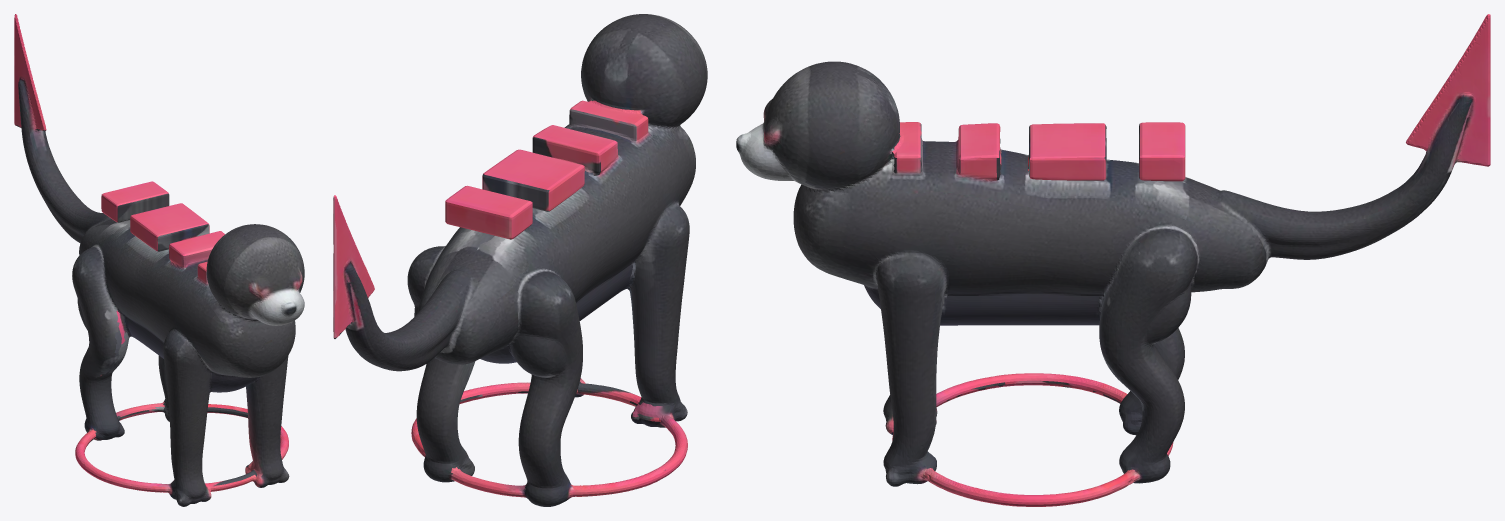
File: creature-036.glb
The picture shows the model from 3 angles, left to right: view 1: azimuth 30°, elevation 25°; view 2: azimuth 150°, elevation 25°; view 3: azimuth 270°, elevation 25°; orthographic projection. The views are drawn at different scales.
Visible parts, largest first — view 1: tmp1okjggi9.ply; view 2: tmp1okjggi9.ply; view 3: tmp1okjggi9.ply.
Part boxes in pixels (x1=…): tmp1okjggi9.ply: x1=14, y1=14, x2=304, y2=506; tmp1okjggi9.ply: x1=333, y1=14, x2=707, y2=506; tmp1okjggi9.ply: x1=736, y1=14, x2=1490, y2=506.
Size of the model in its own units: 0.7936 by 1.28 by 1.99.
Materials: 1 (1 with a texture image).
